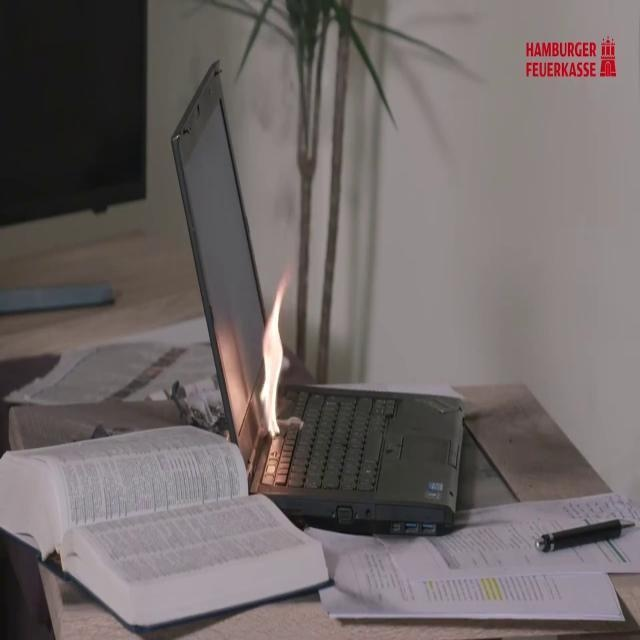fire: (240, 277, 306, 443)
